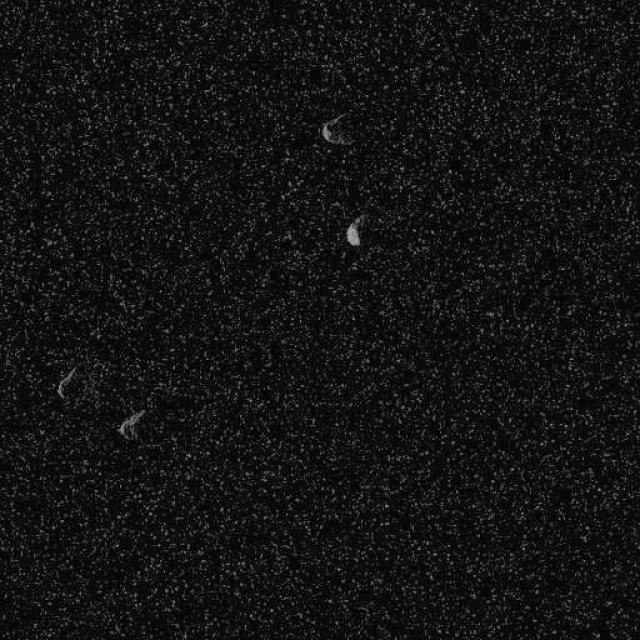D2: (319, 112, 355, 146), (116, 408, 146, 442), (55, 364, 79, 400), (344, 214, 365, 246)
